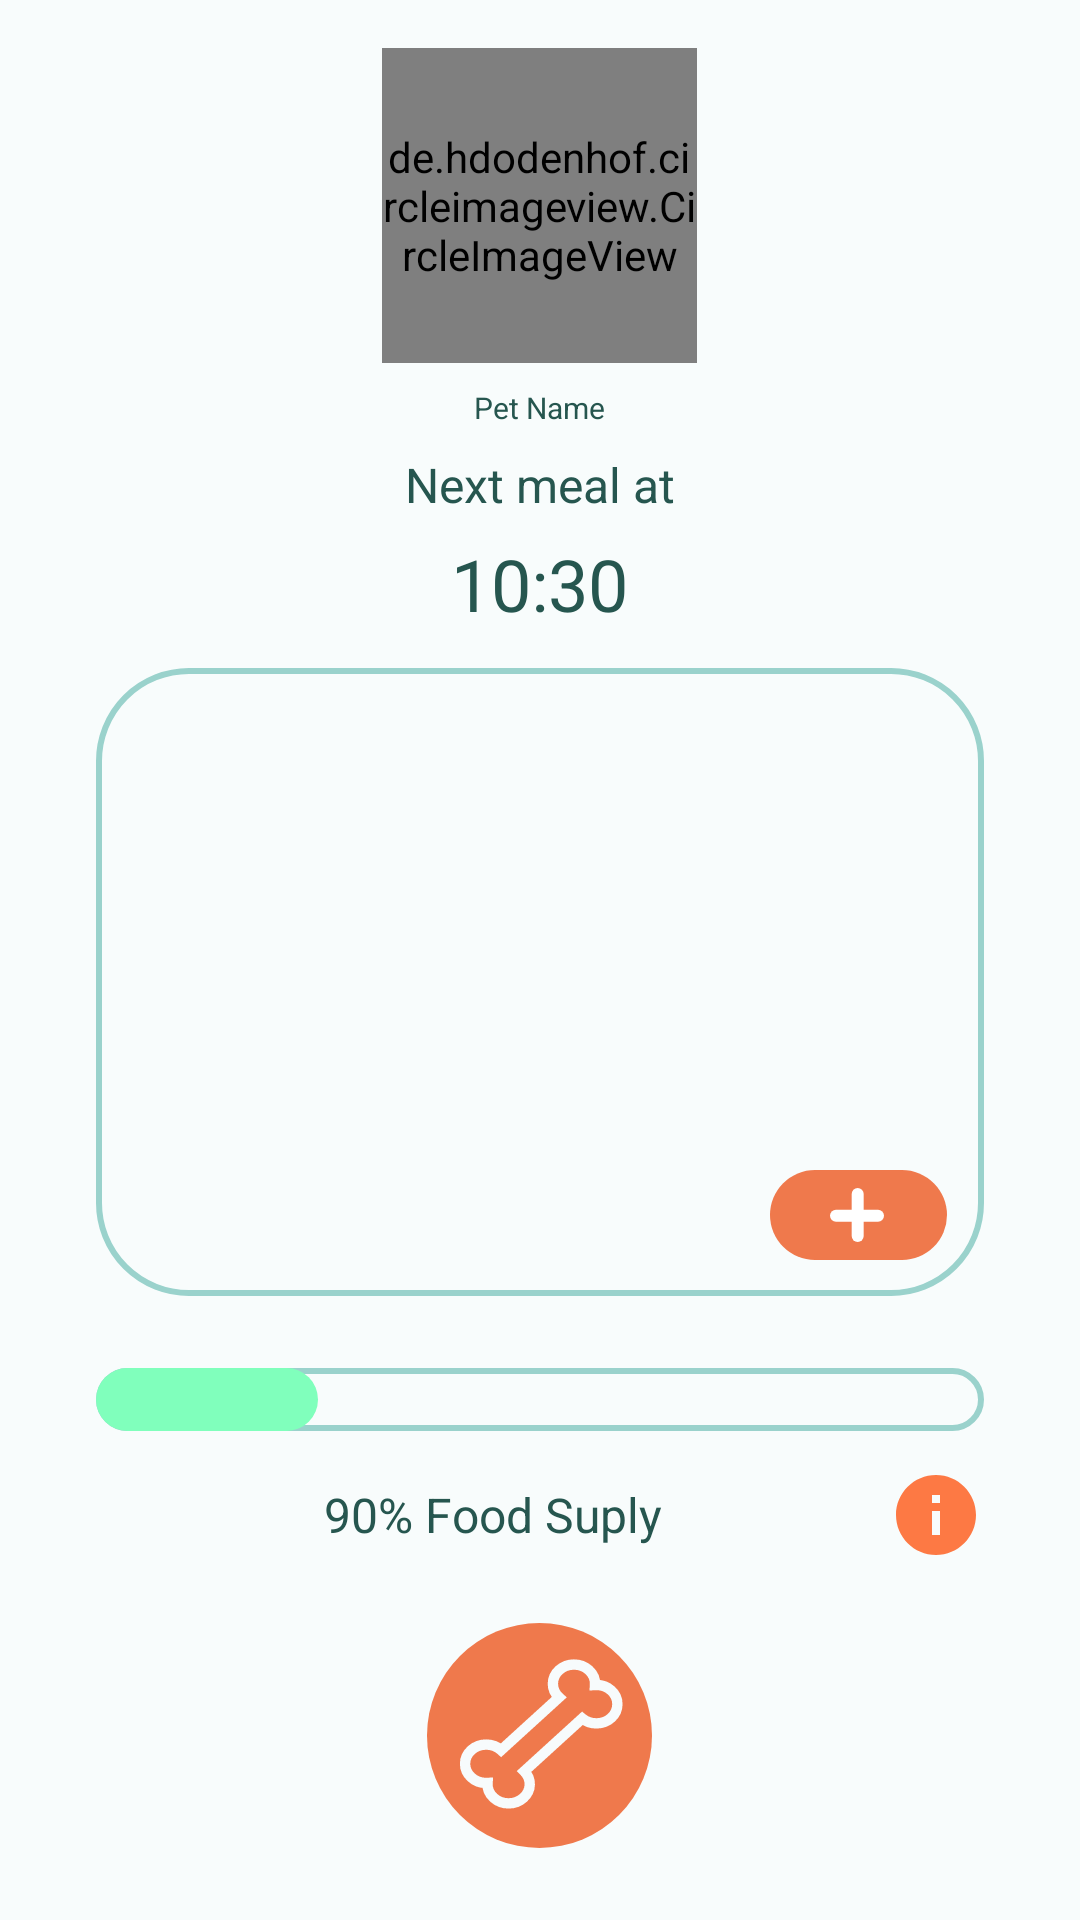

Icons on this 1080×1920 Android screen, each with its box as (x1, y1, x2, y2):
add: (770, 1170, 947, 1260)
info: (896, 1475, 976, 1555)
treat: (427, 1623, 652, 1848)
